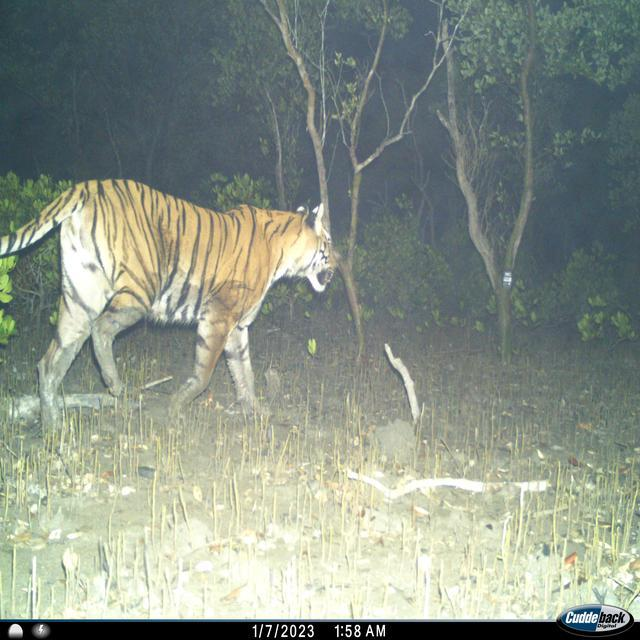tiger: (0, 176, 342, 445)
